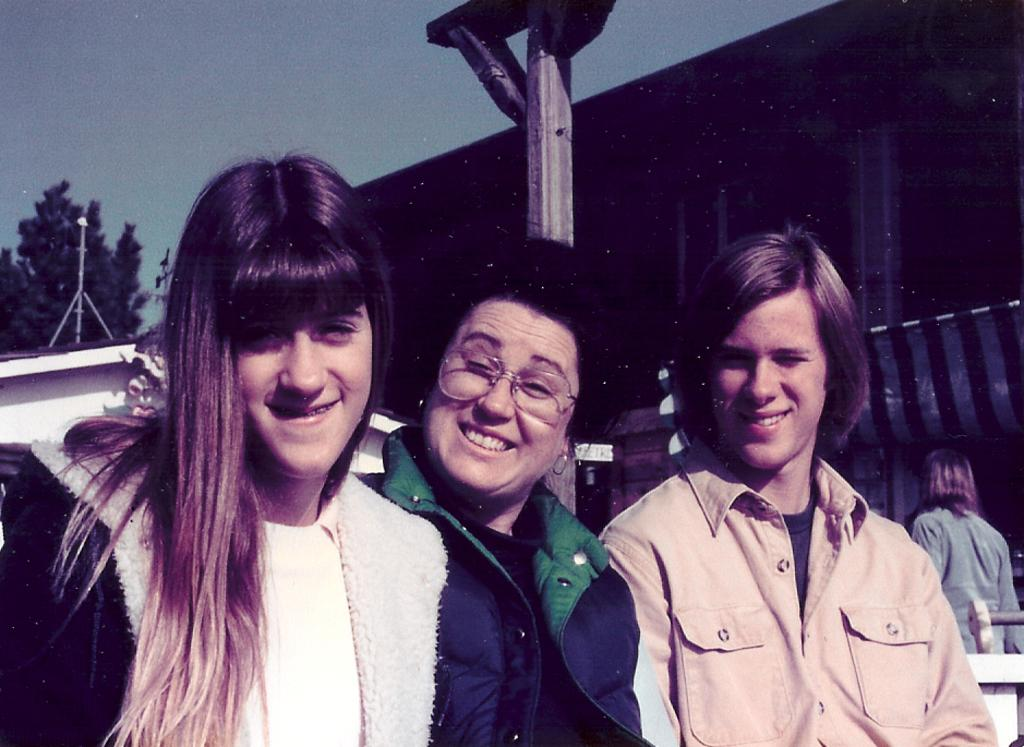Sem Máscara: (406, 284, 575, 499), (225, 309, 382, 492), (694, 279, 827, 470)
